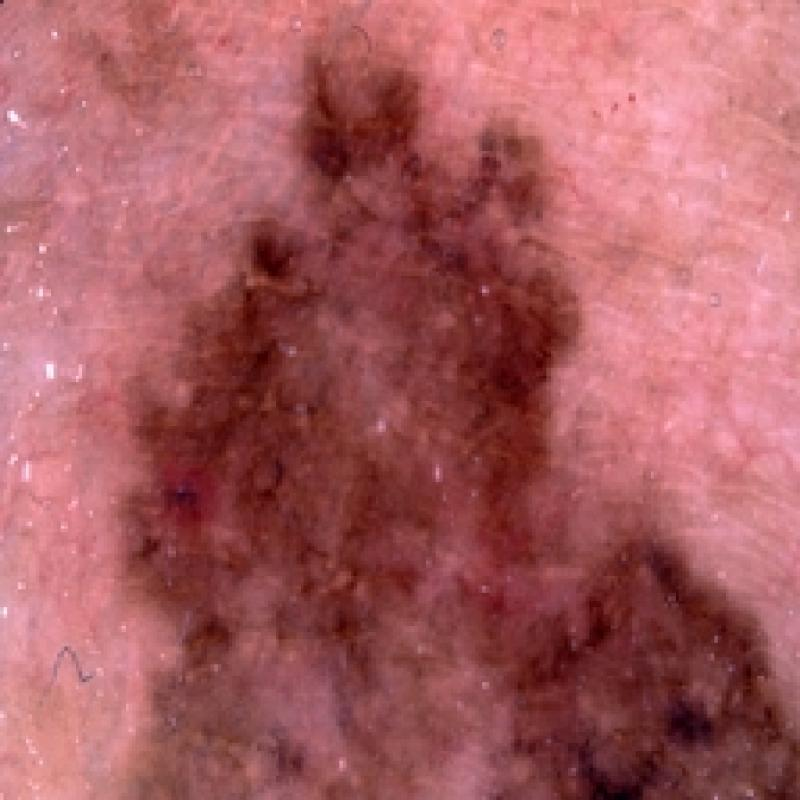malignant: (117, 33, 800, 800)
